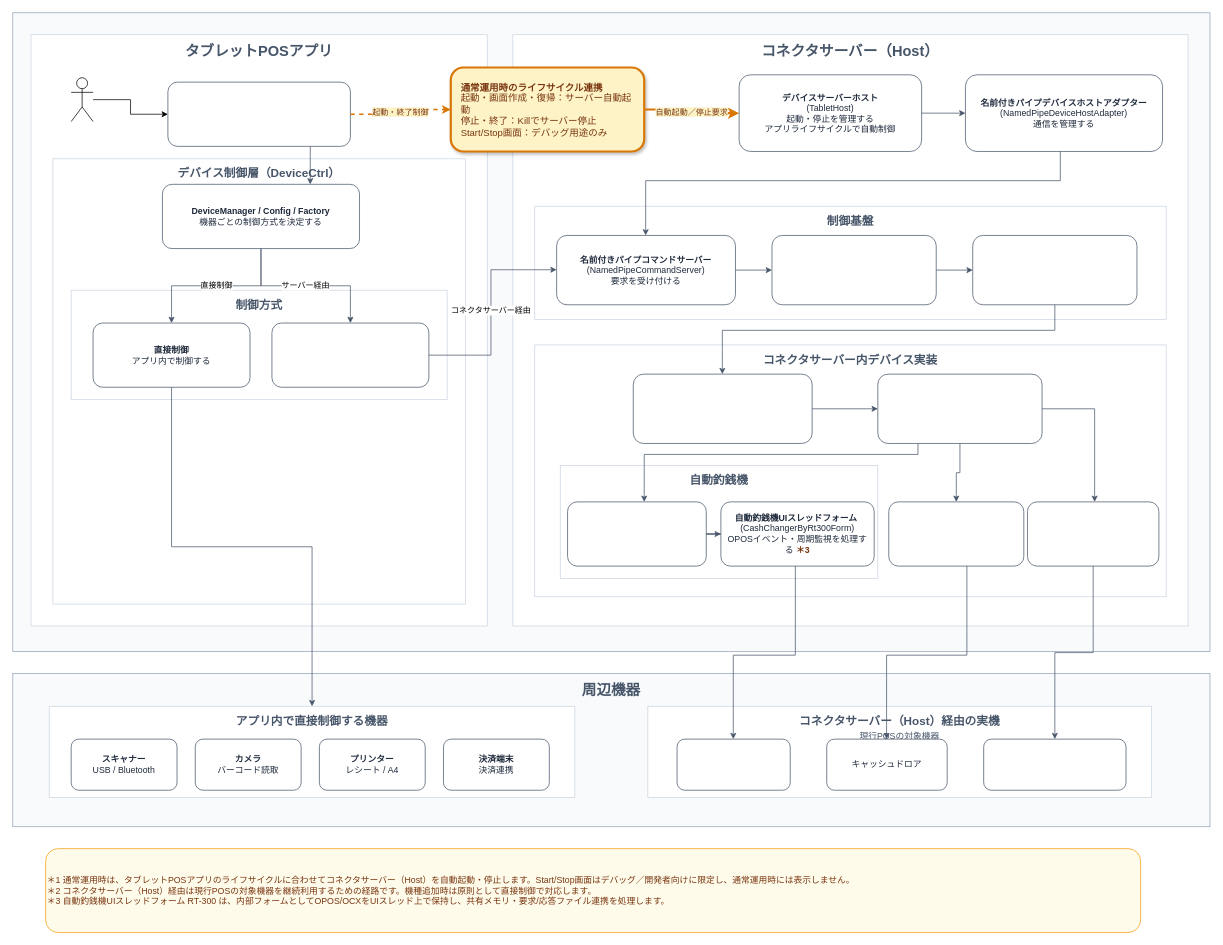
This 1223x945 diagram has some shape labels left out. The centre of each missing label's shape, as x and y in pixels:
Actor: pixel 81 99
NamedPipeClient コネクタサーバー経由の機器を送信する: pixel 350 354
アプリケーション層 機器操作を要求する: pixel 258 113
カスタマーディスプレイ: pixel 1054 764
カスタマーディスプレイ制御 SHARP (CustomerDisplayBySharp) SHARP既存実装を利用: pixel 1093 533
キャッシュドロア制御 SHARP (CashDrawerBySharp) SHARP既存実装を利用: pixel 956 533
デバイスコマンドハンドラー (DeviceCommandHandler) 機器操作を実行する: pixel 1054 270
デバイスコマンドルーター (DeviceCommandRouter) 要求を振り分ける: pixel 853 270
デバイスベース (DeviceBase) 共通処理を提供する: pixel 959 408
デバイスマネージャー (TabletDeviceManager) 対象機器を呼び出す: pixel 722 408
釣銭機: pixel 733 764
釣銭機制御 RT-300 (CashChangerByRt300) 既存実装を継続利用: pixel 636 533
